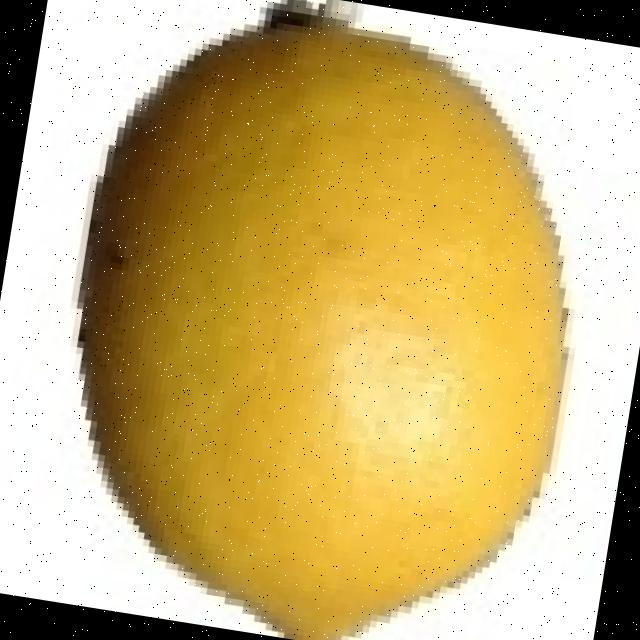lemon: (79, 12, 564, 640)
